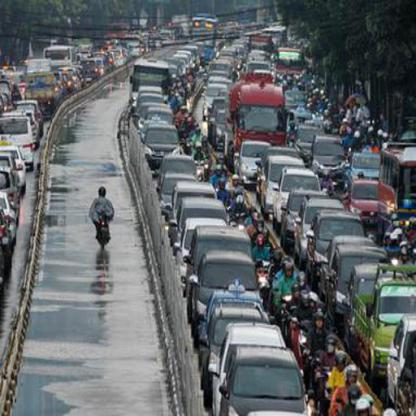bus: (129, 60, 176, 104)
car: (220, 335, 306, 415), (329, 242, 389, 320), (205, 292, 267, 362), (260, 150, 309, 228), (192, 252, 258, 309), (173, 191, 228, 252), (310, 212, 367, 268), (349, 178, 396, 244), (382, 130, 415, 212), (0, 110, 39, 166), (144, 125, 180, 161), (311, 136, 345, 174), (352, 151, 382, 181), (43, 46, 73, 70)
motorbike: (94, 216, 113, 250)
